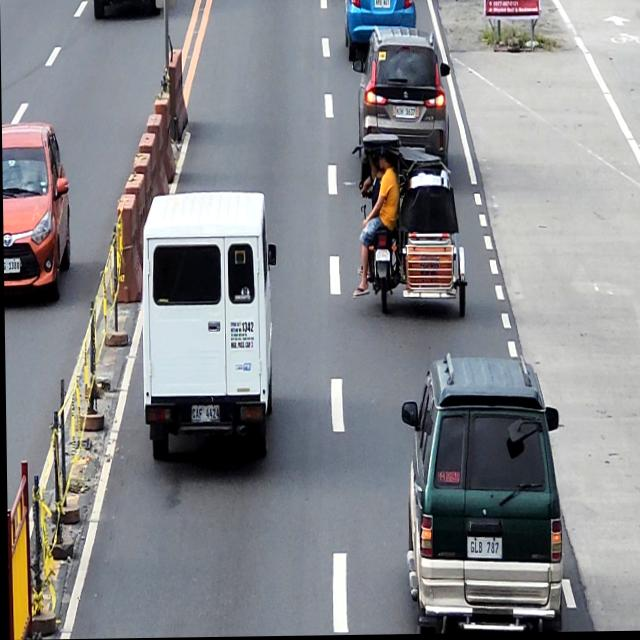Car: (400, 353, 563, 634), (139, 190, 278, 460), (351, 26, 451, 172), (1, 120, 70, 299), (344, 0, 417, 62)
License-Plate: (465, 539, 501, 560), (189, 405, 219, 425), (394, 106, 416, 120), (3, 258, 21, 274), (375, 250, 389, 264), (374, 0, 390, 10)
Tricycle: (352, 132, 468, 321)
